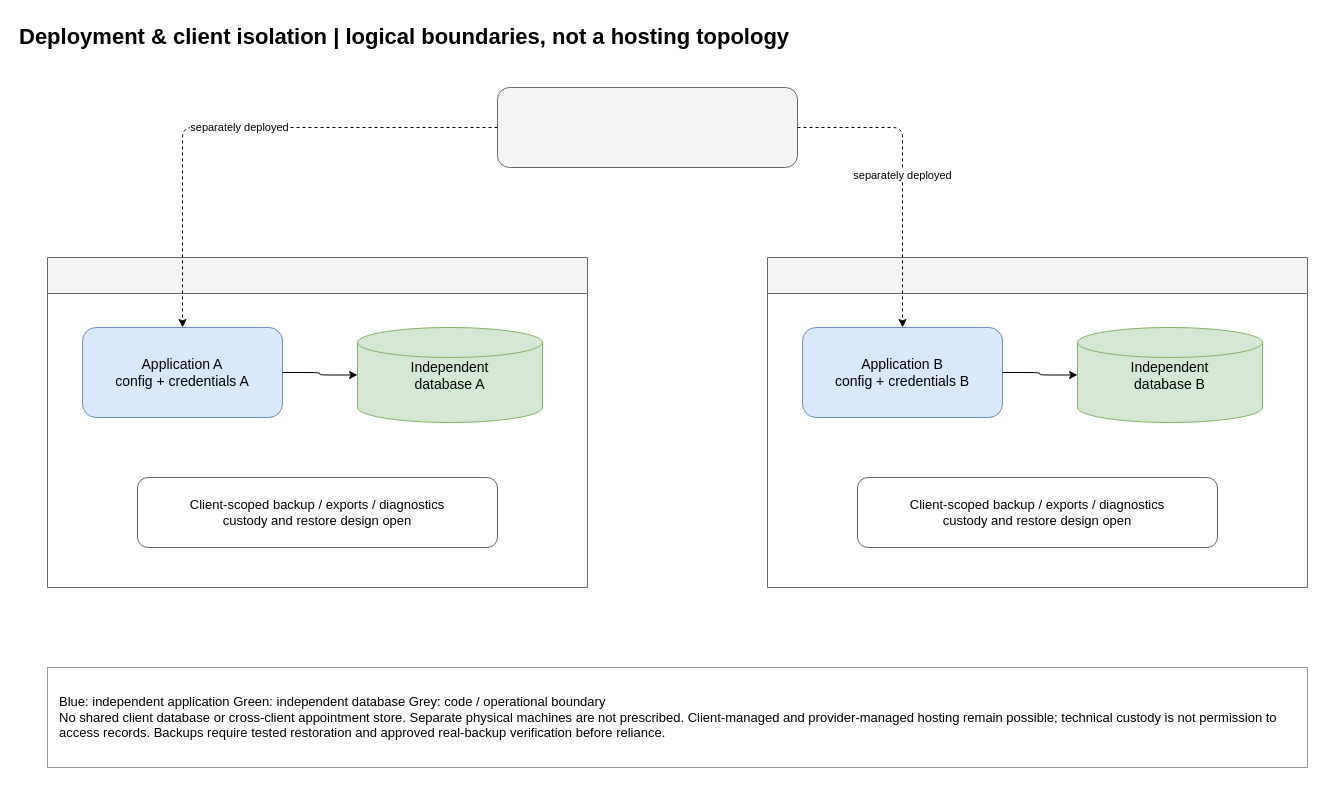
Image size: 1325x785. Some labels were removed from this diagram. The shapes that lost their labels are listed below. From the top down, each one's box as (x1, y1, x2, y2) in pixels, then its label:
(496, 86, 798, 168): One maintained product codebase version / release process to be decided
(46, 256, 588, 588): Client A | independent installation boundary
(766, 256, 1308, 588): Client B | independent installation boundary
